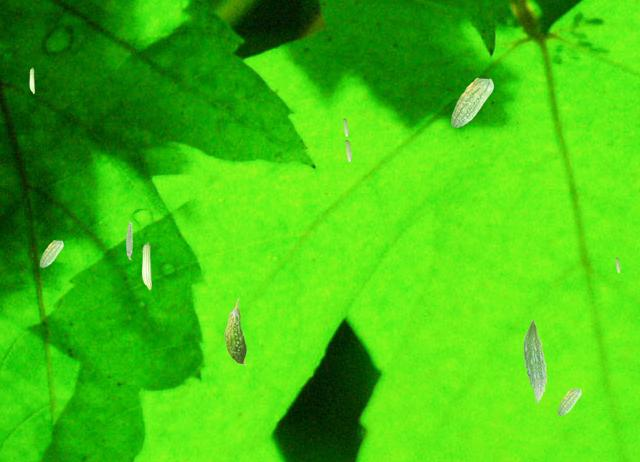ampalaya: (450, 77, 494, 128), (523, 319, 547, 403), (223, 298, 247, 365), (39, 239, 64, 268), (557, 387, 582, 416), (141, 241, 152, 290), (125, 221, 133, 260), (344, 139, 352, 162), (29, 67, 35, 94), (342, 118, 349, 136), (615, 257, 620, 273)
